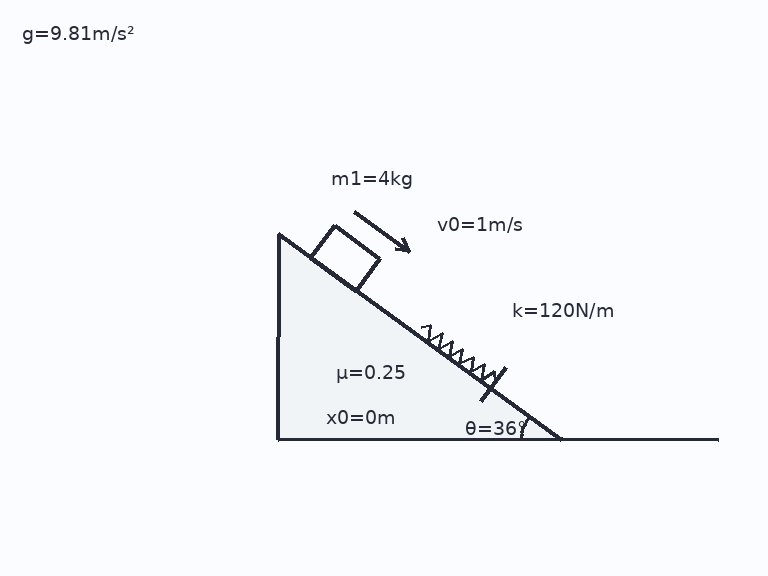block: (308, 223, 381, 293)
ramp: (275, 232, 563, 442)
spring: (419, 324, 497, 383)
